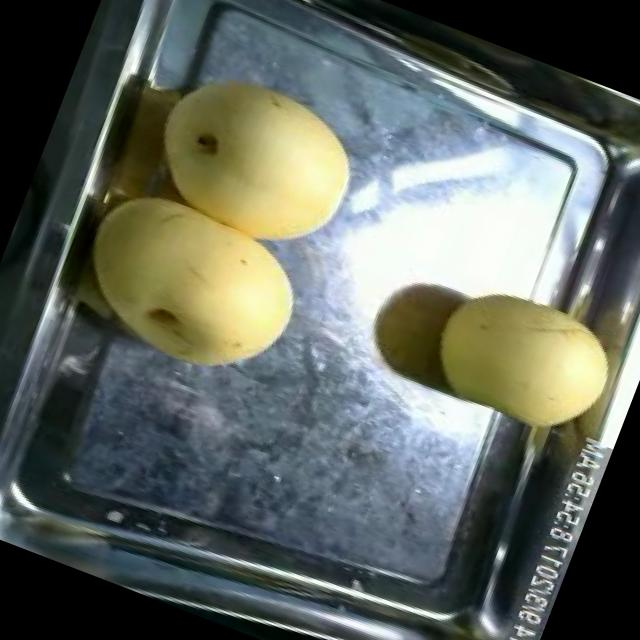Fruit: (55, 166, 328, 402), (125, 43, 384, 275), (408, 258, 639, 458)
